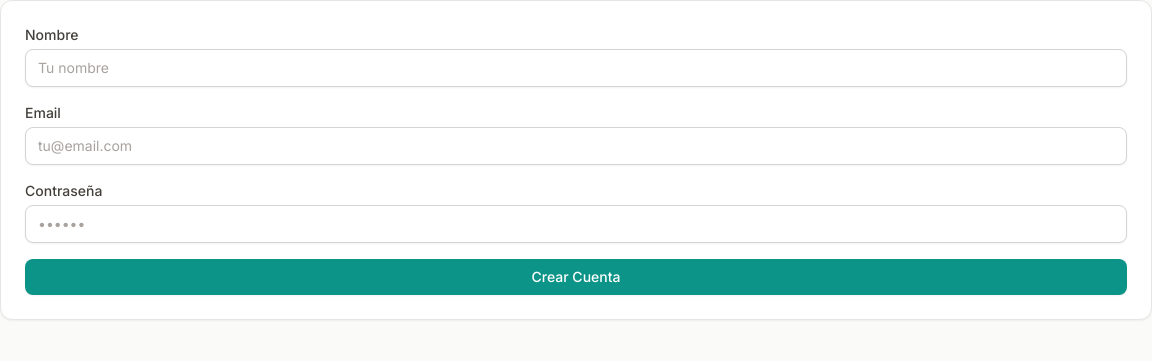
Scenario: RegisterForm › muestra error si name < 2 caracteres
Type "A" into the field labelled "Nombre" at [576, 68], box x1=25 y1=49 x2=1127 y2=87
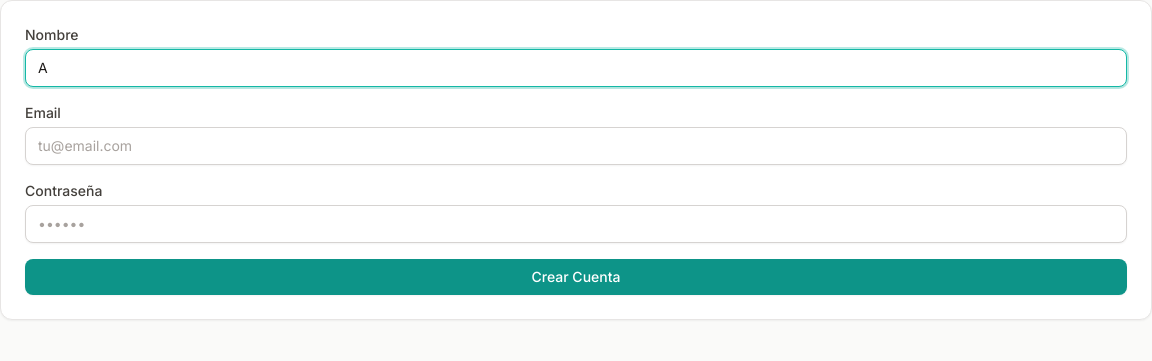
Type "test@test.com" into the field labelled "Email" at [576, 146], box x1=25 y1=127 x2=1127 y2=165
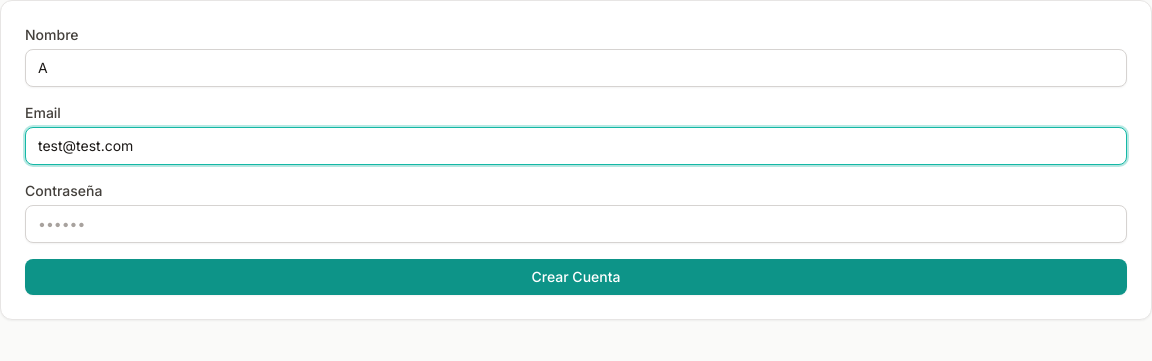
Type "123456" into the password field labelled "Contraseña" at [576, 224], box x1=25 y1=205 x2=1127 y2=243
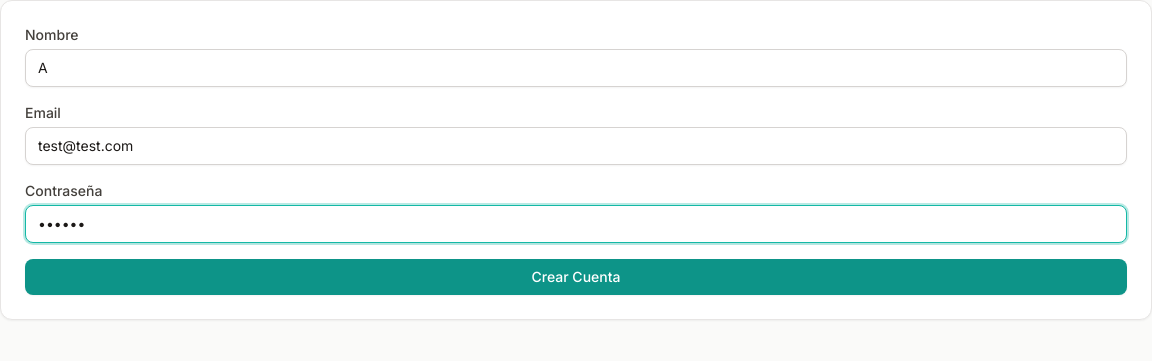
Click the button "Crear Cuenta" at [576, 277], box x1=25 y1=259 x2=1127 y2=295
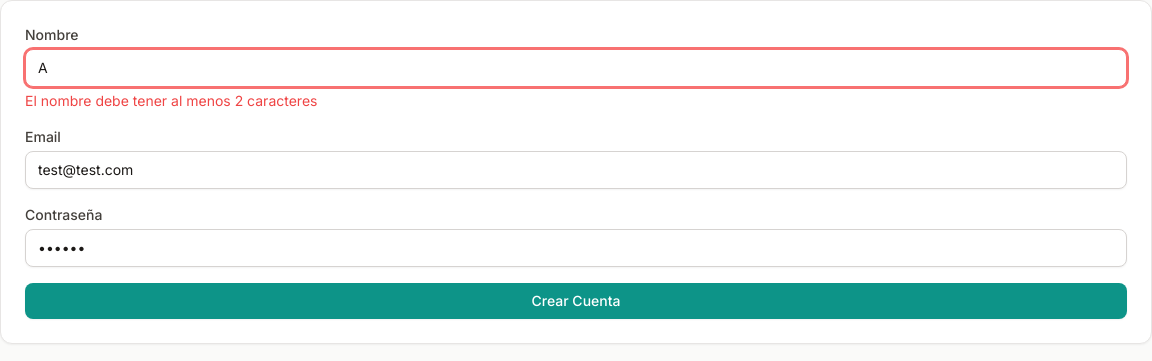
expect the text "El nombre debe tener al menos 2 caracteres" is shown: met, box x1=25 y1=92 x2=318 y2=109
